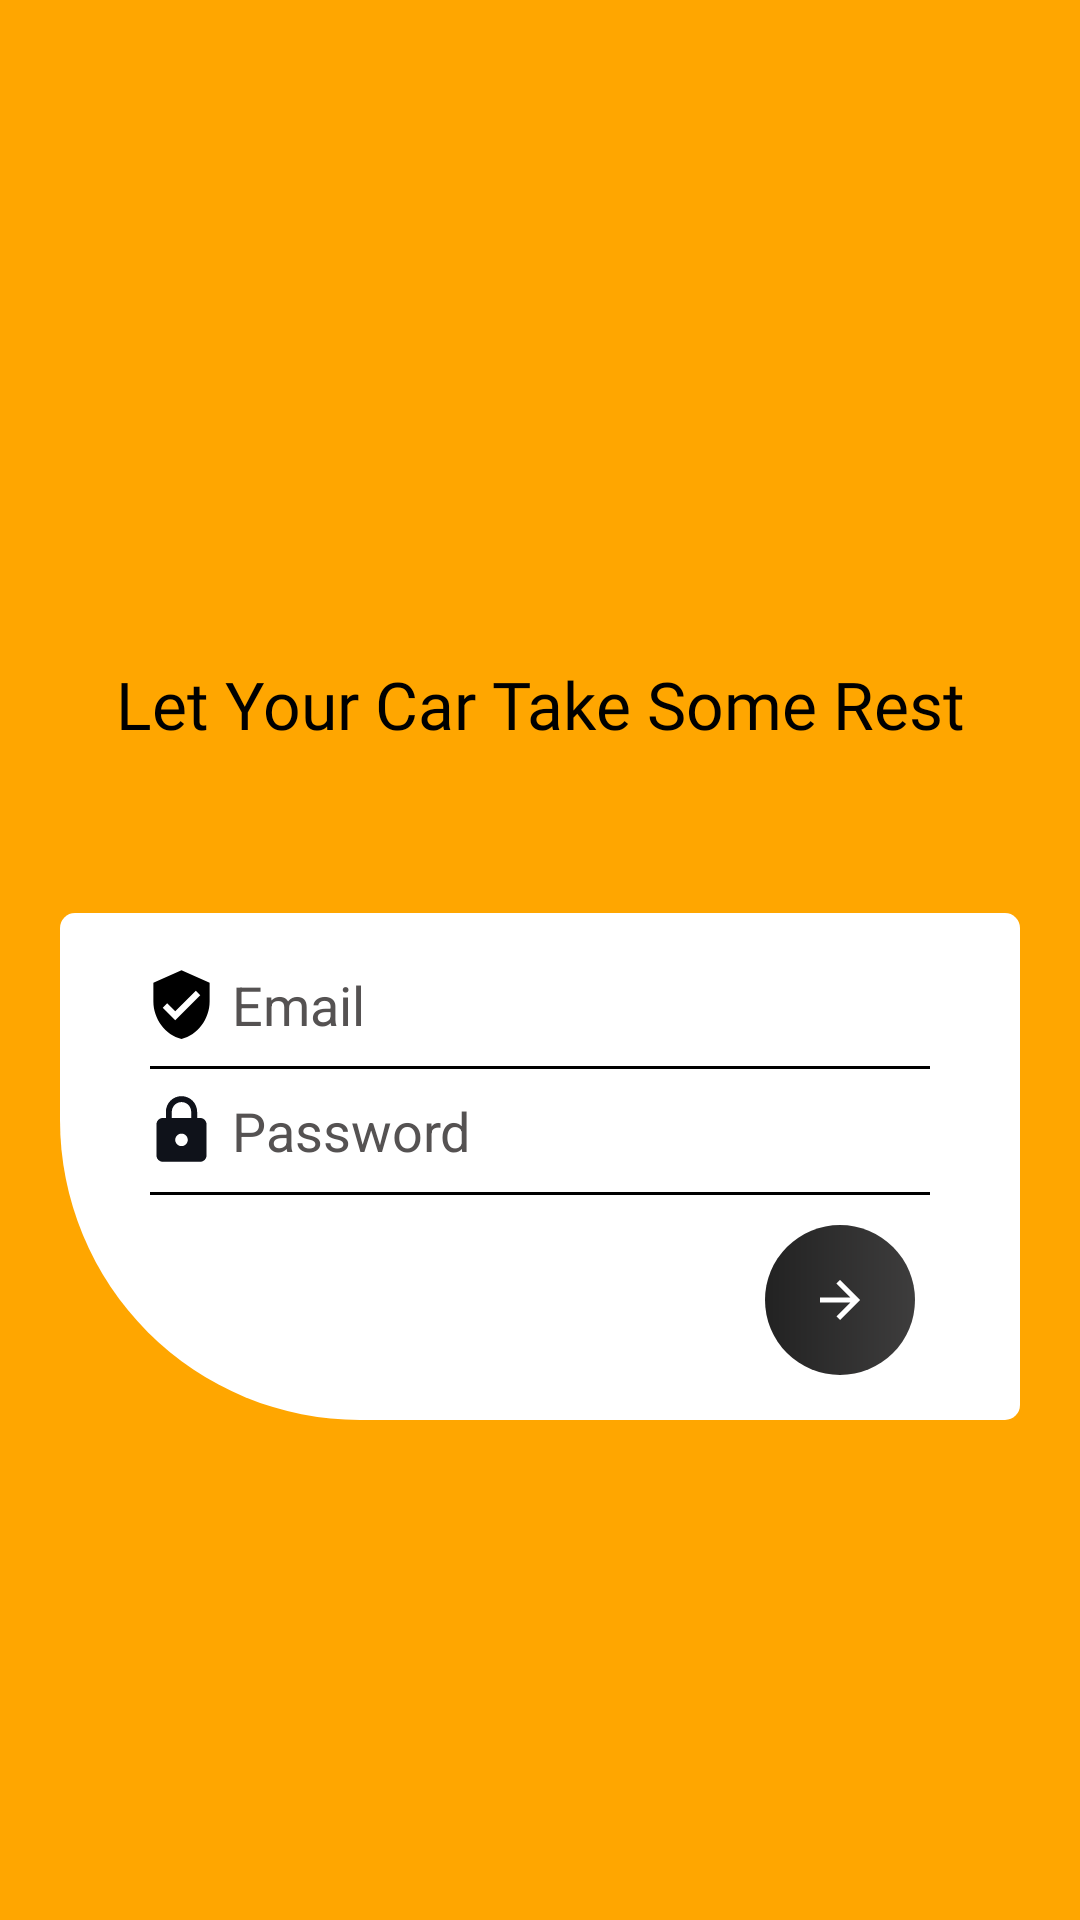

Named icons in this screenshot (1080 × 1920) and their centers, (x=x, y=y):
arrow forward: (x=840, y=1300)
